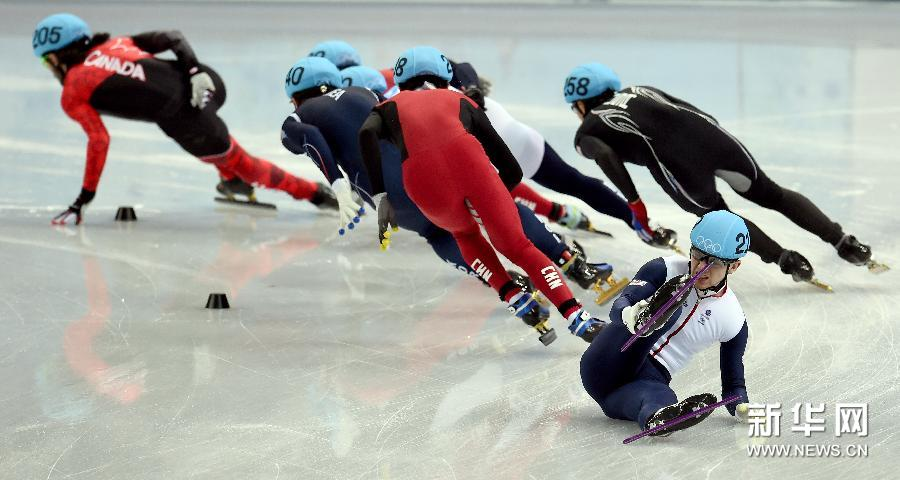fall: (560, 204, 785, 435)
